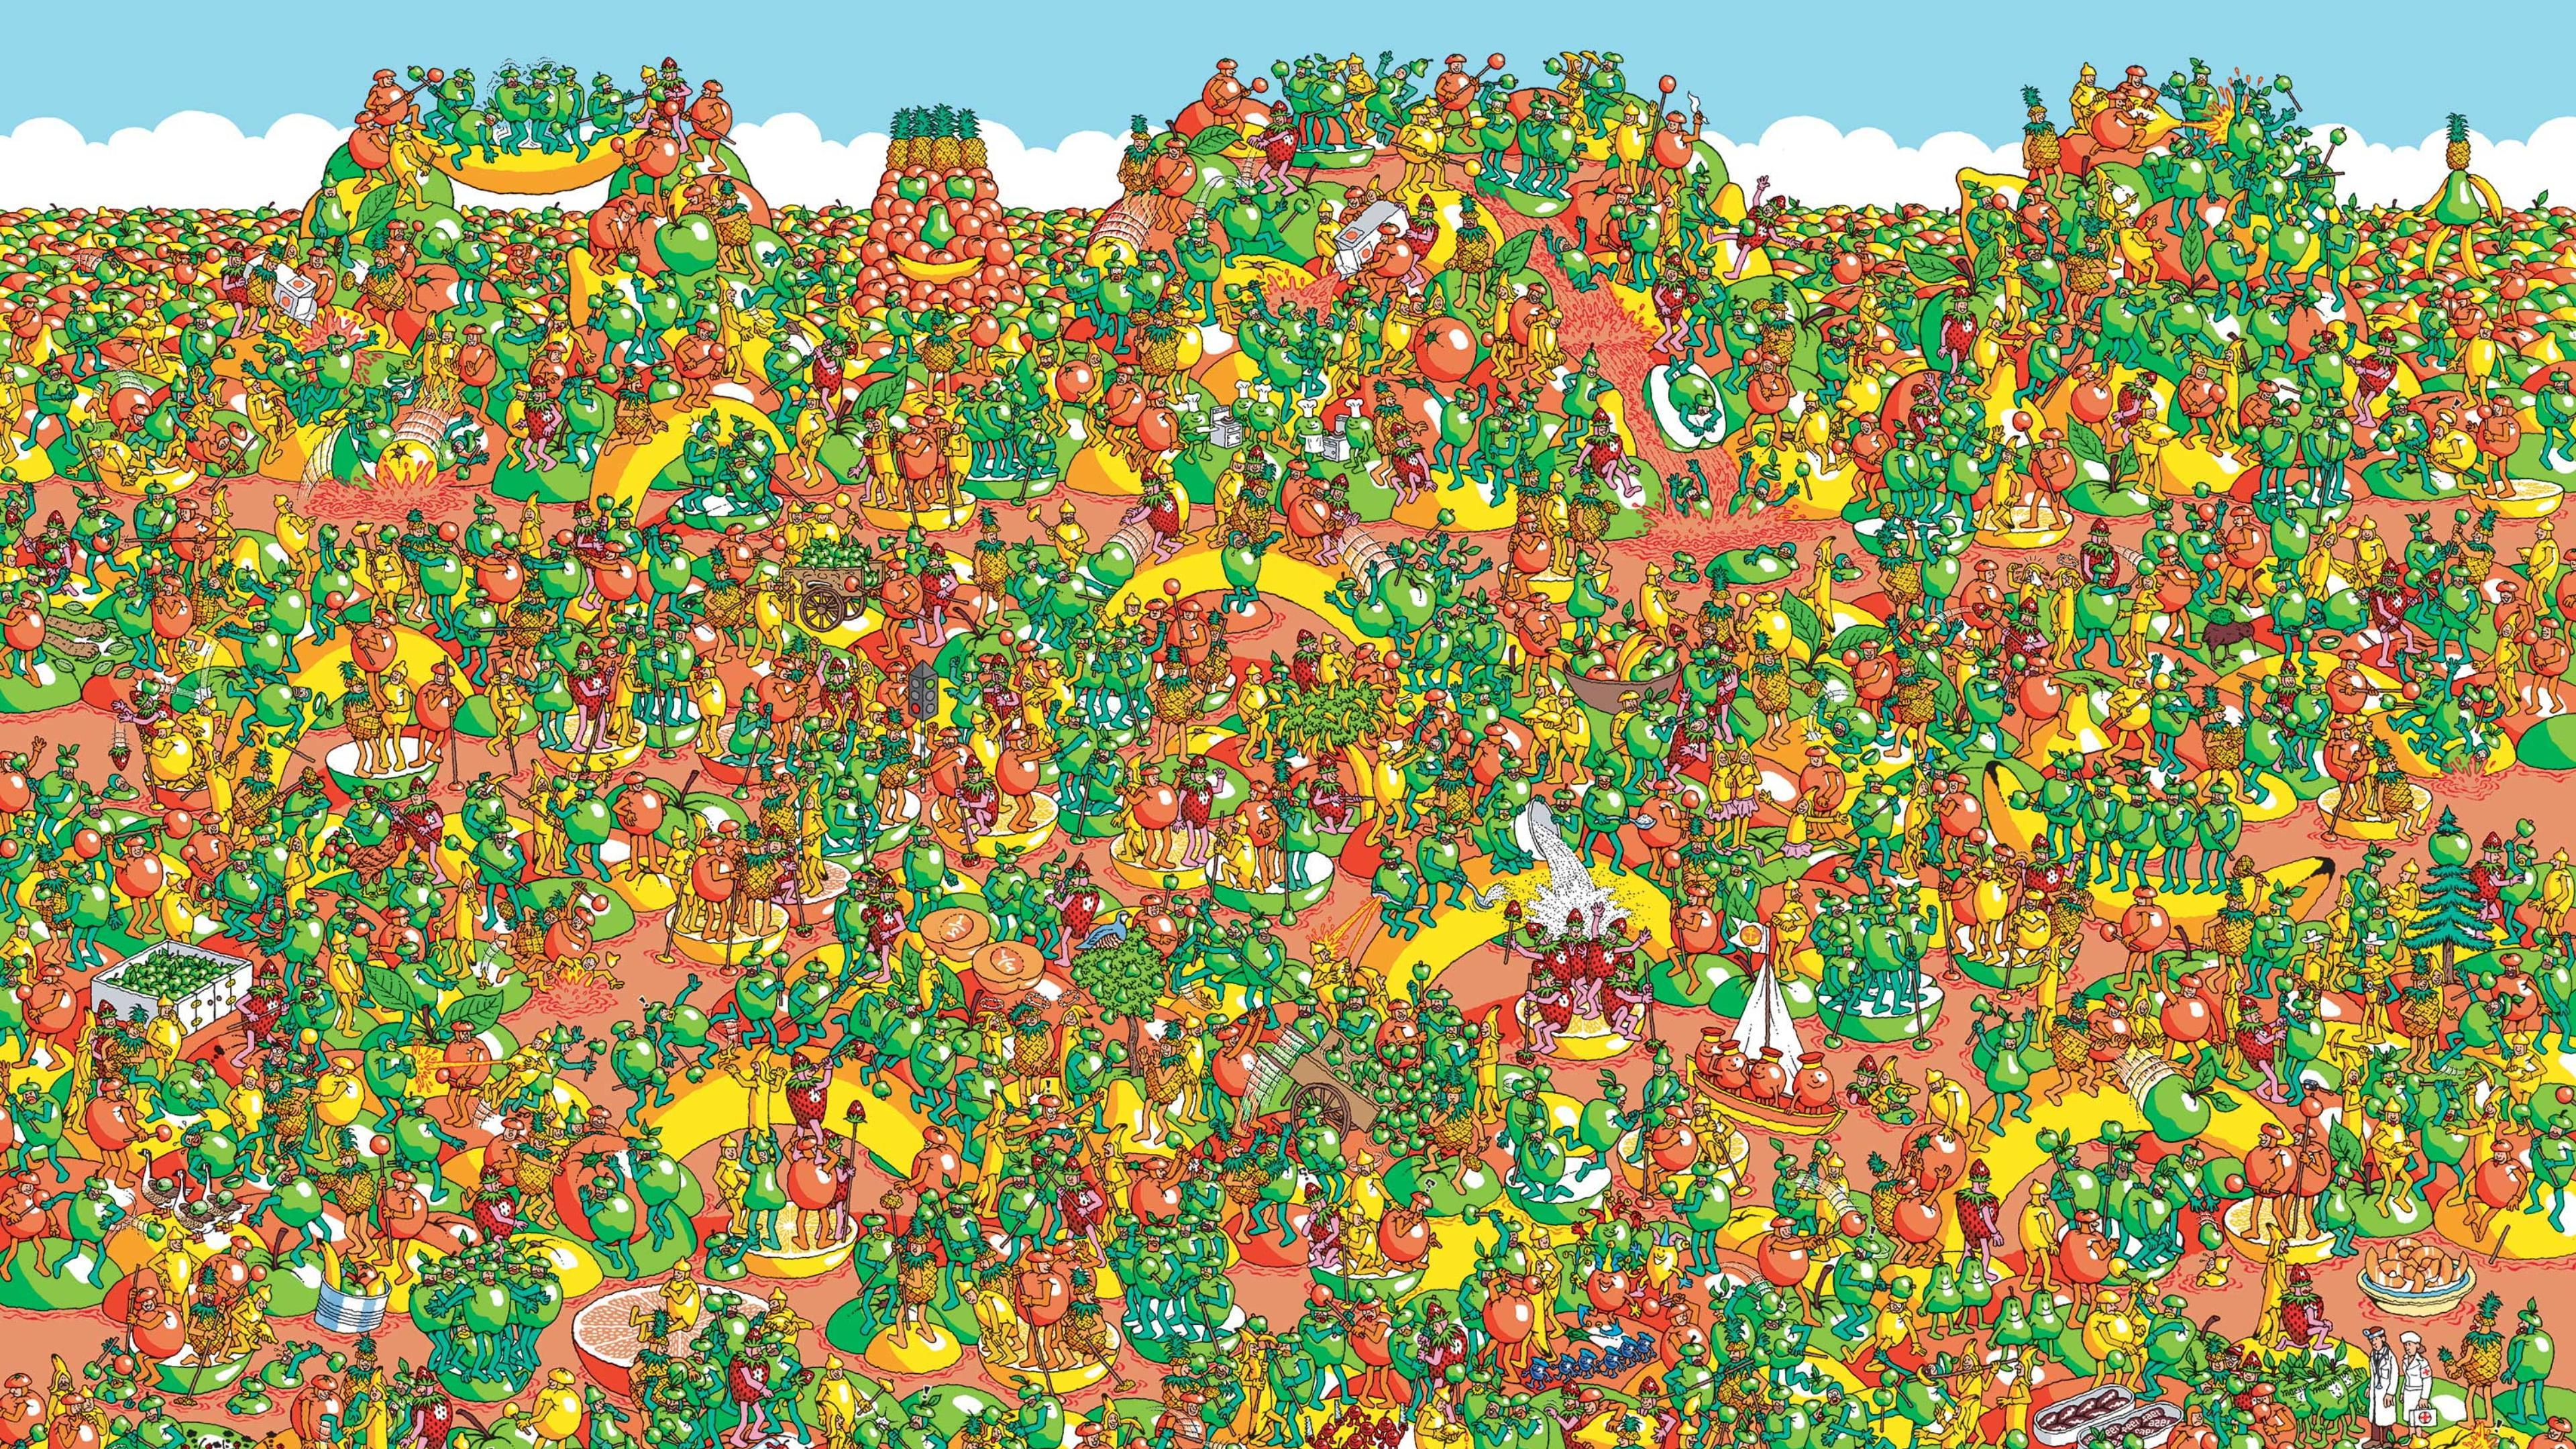waldos: (269, 1039, 292, 1069)
